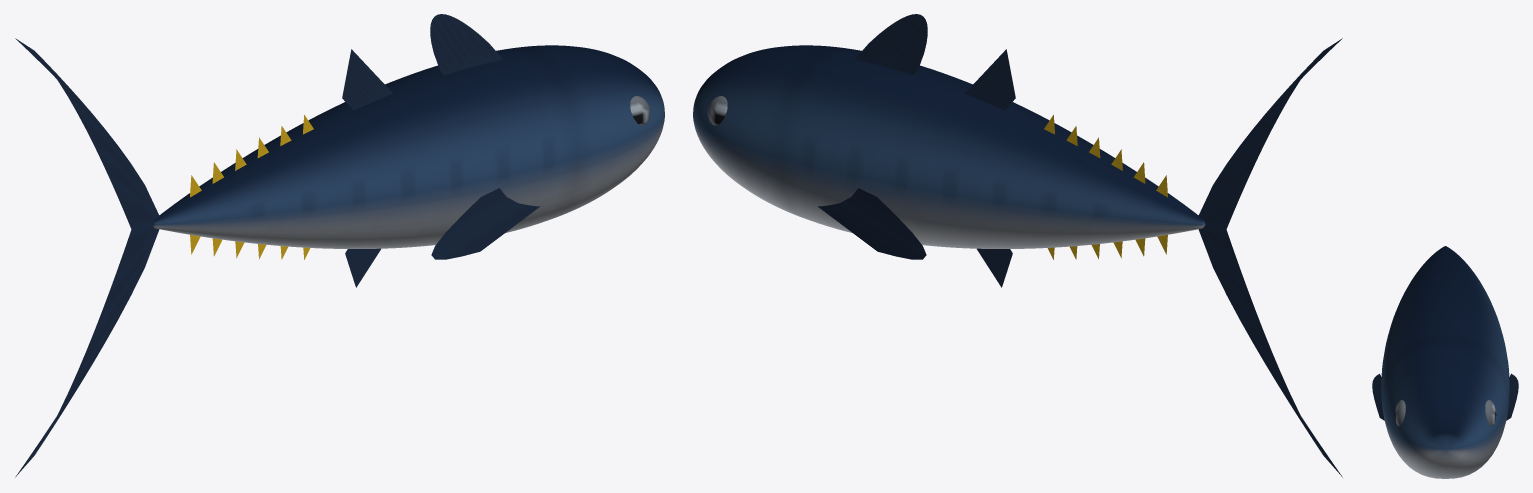
The model's file is orkinos.glb.
3 renders of one model, left to right at view 1: azimuth 30°, elevation 25°; view 2: azimuth 150°, elevation 25°; view 3: azimuth 270°, elevation 25°, orthographic. The views are drawn at different scales.
Parts seen in each view (by area): view 1: orkinos_govde, orkinos_kuyruk, orkinos_gogusL, orkinos_sirt, orkinos_sirt2, orkinos_anal_a; view 2: orkinos_govde, orkinos_kuyruk, orkinos_gogusR, orkinos_sirt, orkinos_sirt2, orkinos_anal_a; view 3: orkinos_govde, orkinos_gogusL, orkinos_gogusR, orkinos_gozL, orkinos_gozR.
Part boxes in pixels (x1,y1,x2,y2): orkinos_govde: (152,45,664,248); orkinos_kuyruk: (15,38,159,477); orkinos_gogusL: (431,188,539,259); orkinos_sirt: (430,14,502,75); orkinos_sirt2: (342,49,392,110); orkinos_anal_a: (345,248,380,287); orkinos_govde: (693,45,1205,248); orkinos_kuyruk: (1198,38,1342,477); orkinos_gogusR: (818,188,926,259); orkinos_sirt: (855,14,927,75); orkinos_sirt2: (965,49,1015,110); orkinos_anal_a: (977,248,1012,287); orkinos_govde: (1381,246,1509,478); orkinos_gogusL: (1372,373,1384,420); orkinos_gogusR: (1506,373,1518,420); orkinos_gozL: (1394,400,1405,426); orkinos_gozR: (1485,400,1496,426).
Bounding box in the file's own units: 1.05 × 0.69 × 0.2552.
